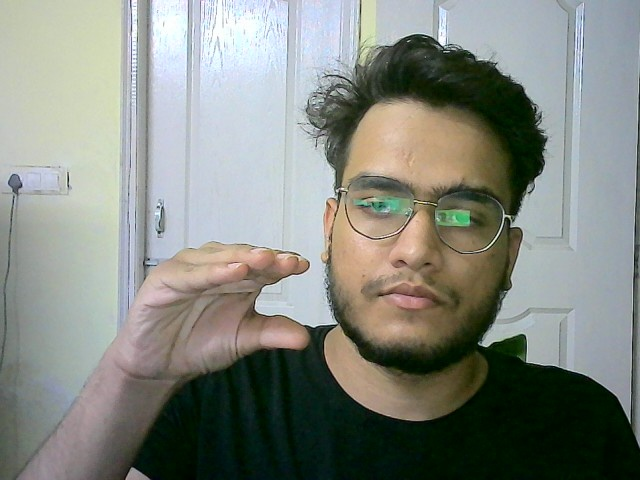No: (135, 235, 317, 379)
